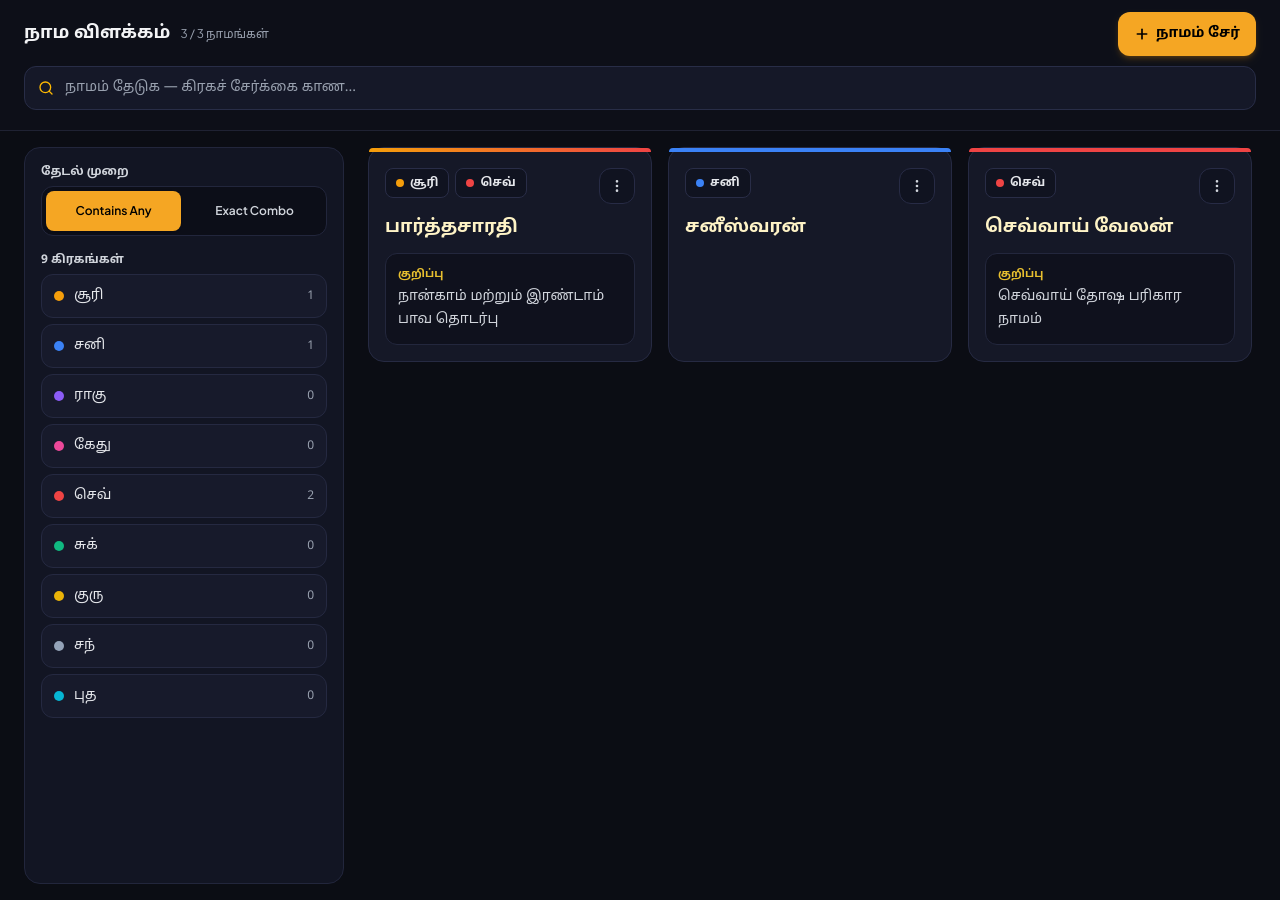
Test: Phase 4 UI: நாம விளக்கம் Tab, Role Permissions & 2-Way 9-Planet Search › grants add/edit without delete for user role and full add/edit/delete for contributor and admin
Later steps or results of the test are not shown.
Expected: the button "நாமம் சேர்" is shown, [1118,12,1256,56]
Click the 1st button named "Entry options" at (617, 186), box [599,168,635,204]
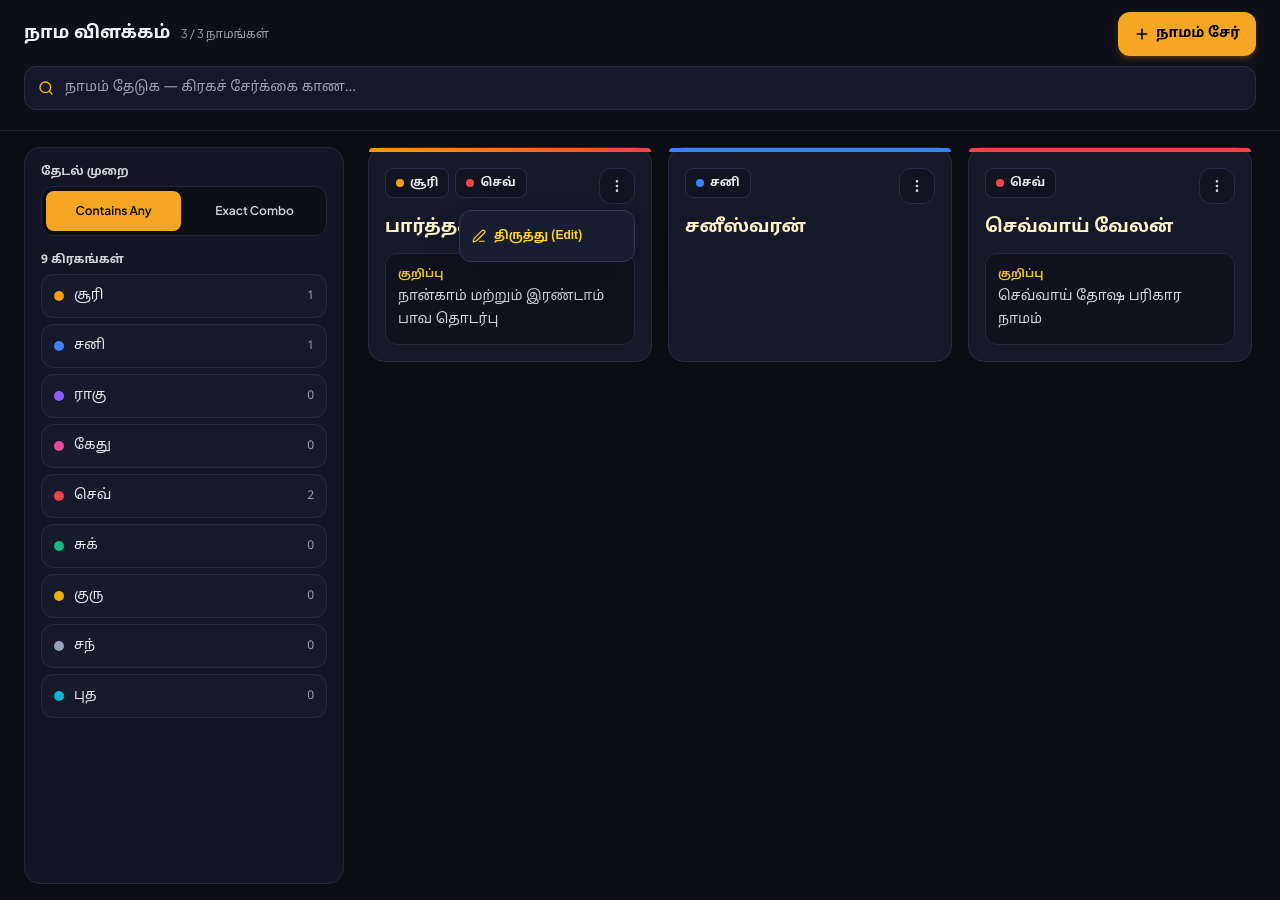
Now the text "திருத்து (Edit)" is shown, box [494,228,582,244]
